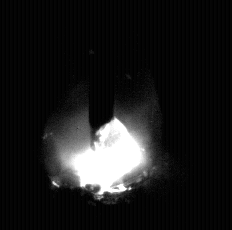arame: (89, 0, 116, 150)
poca: (46, 0, 162, 230)
